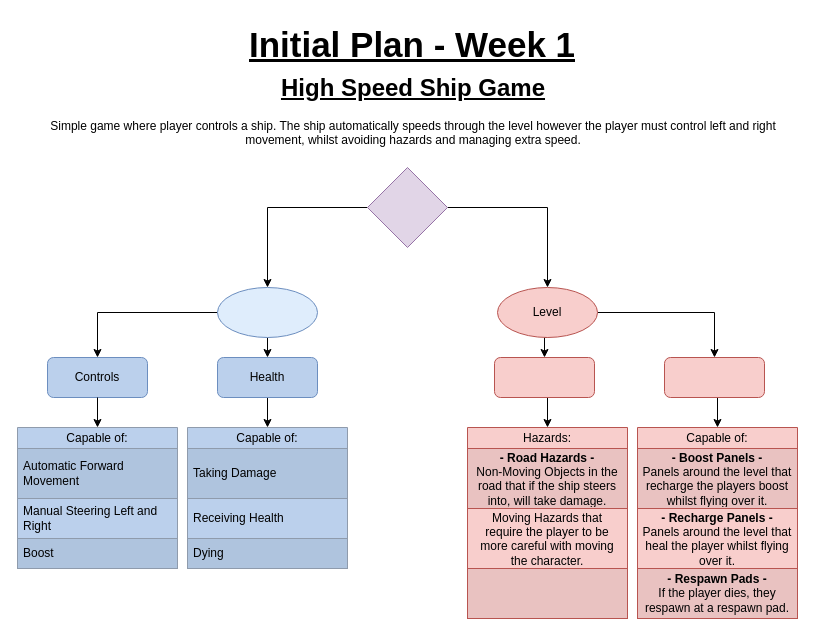
Some shapes in this 825 by 636 pixel diagram are drawn without their labels. Each missing label, with the centre of its shape:
"Benefits" goes at [714,377].
"Game" goes at [407,207].
"Hazards" goes at [544,377].
"Player Character" goes at [267,312].
